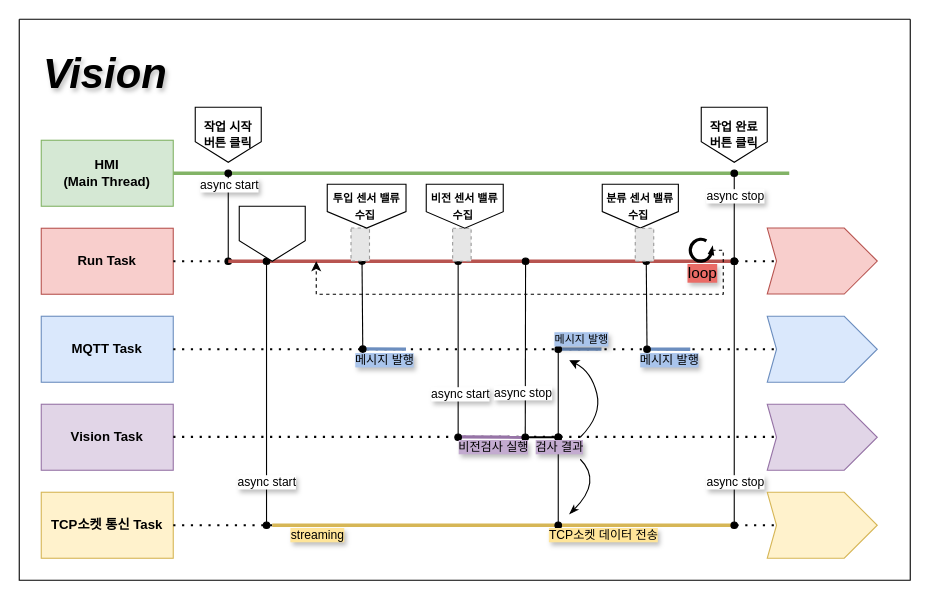
Some shapes in this 930 by 600 pixel diagram are drawn without their labels. Grey dashed boxes stand in for pictures. Here are the shapes that lost their labels. From the top down, the centre of each, then its label:
At (271,233): "공정 초기화 통신 준비".
At (821,260): "아두이노 장비 제어".
At (821,348): "실시간 모니터링 데이터 SCDADA 전송".
At (821,436): "Vision 검사 실행".
At (821,524): "검사 데이터 DB 저장".
